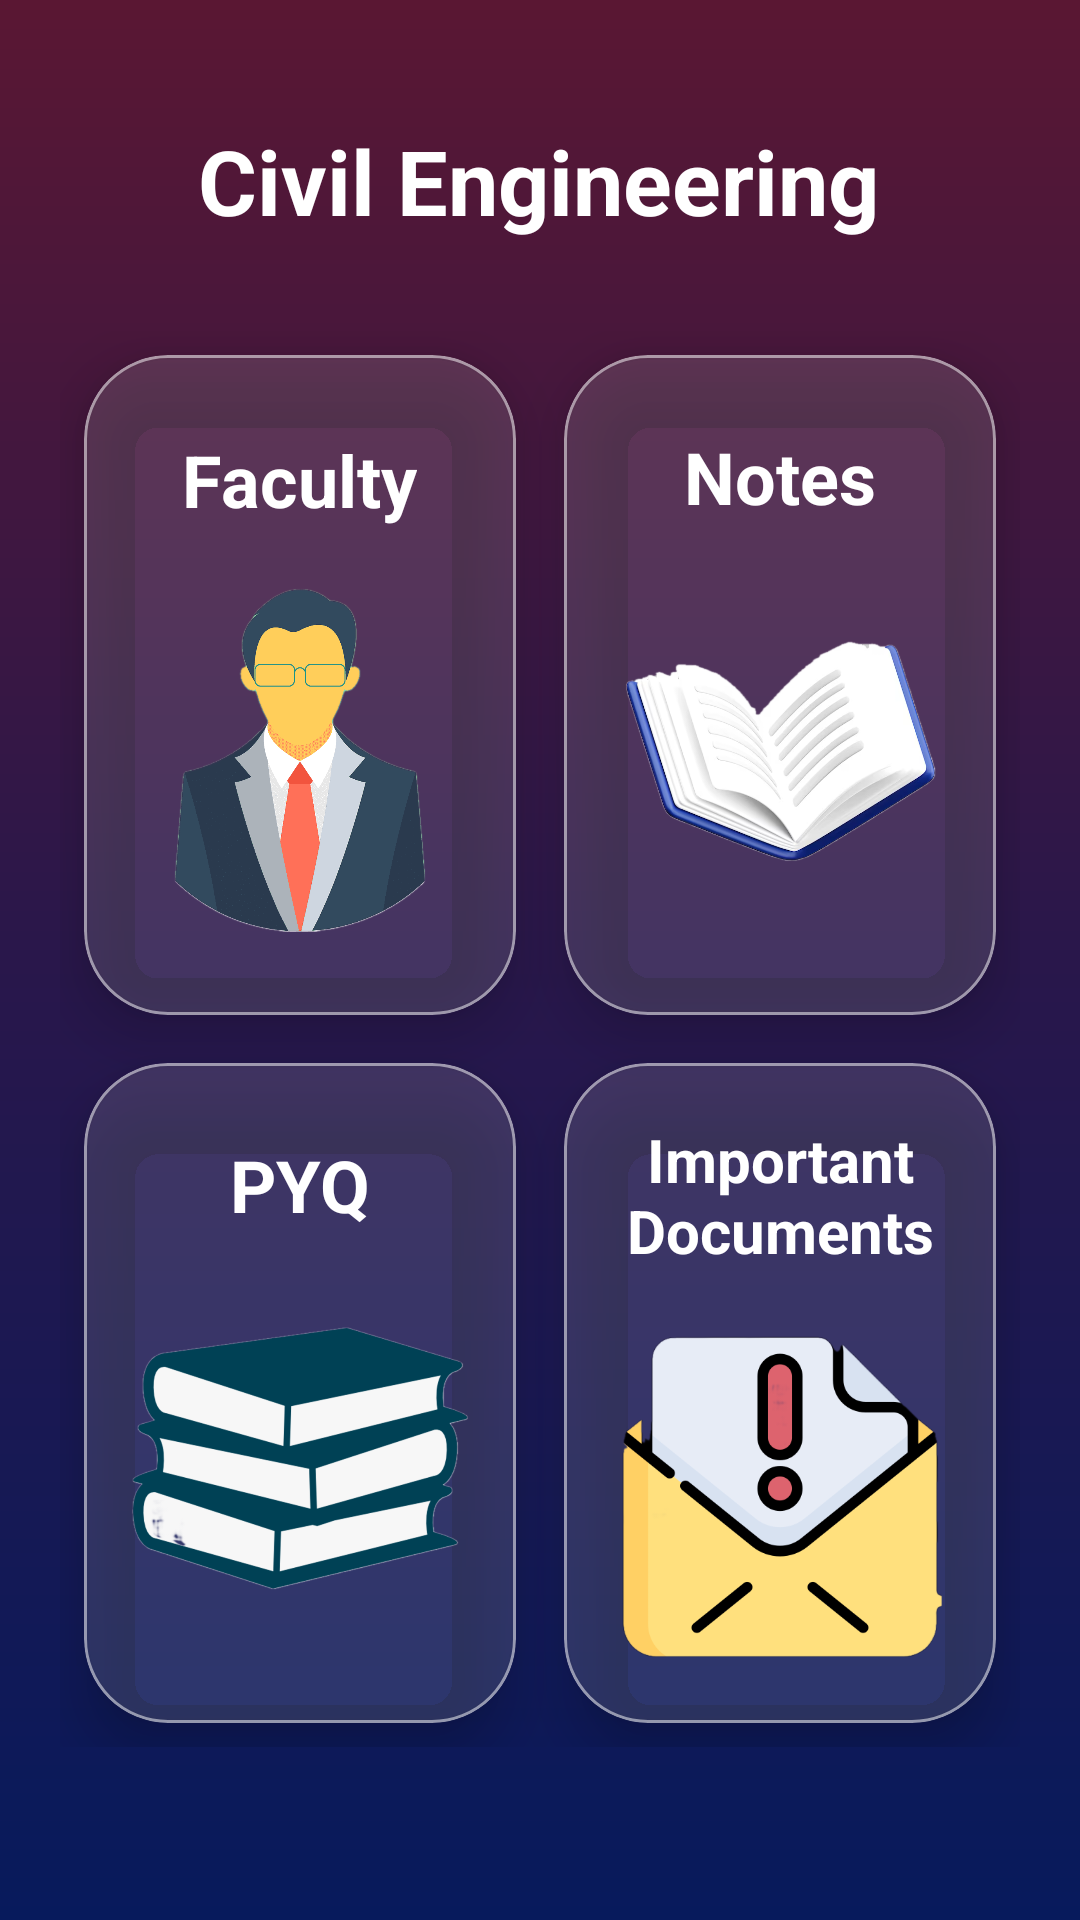

Locate icon controls on the screen. Image size 1080*1920, boxes as (left=x1, top=y1, right=x2, bottom=y2).
notice: (left=623, top=1337, right=942, bottom=1657)
